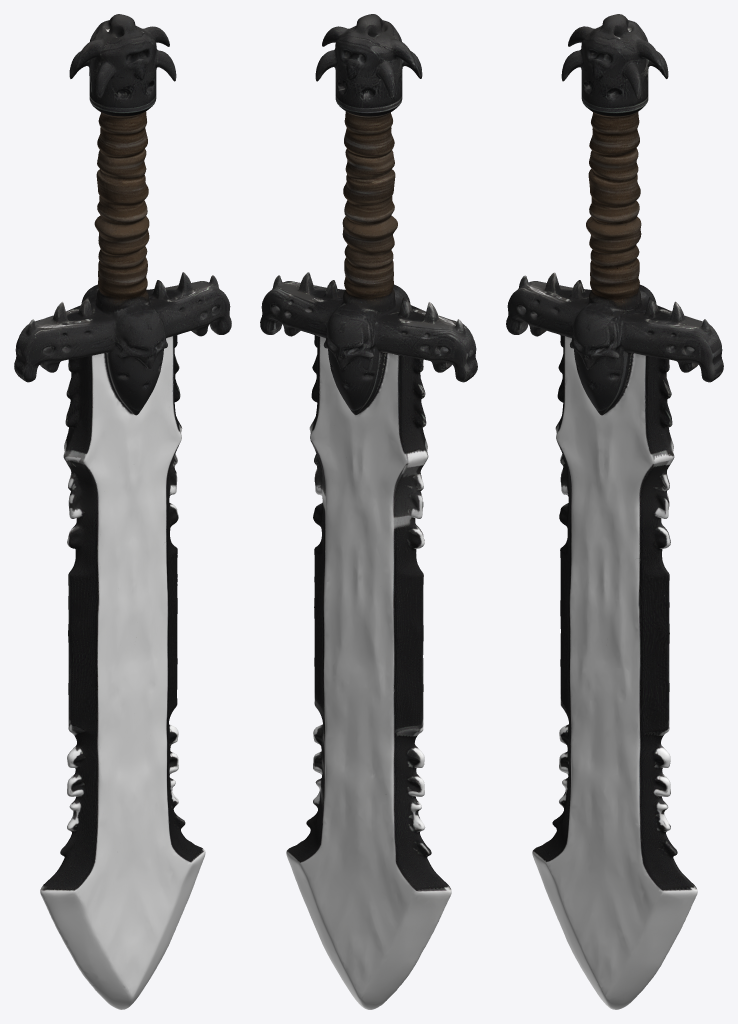
The model's file is Meshy_Model_Import0003.fbx.
3 renders of one model, left to right at view 1: azimuth 30°, elevation 25°; view 2: azimuth 150°, elevation 25°; view 3: azimuth 330°, elevation 25°, orthographic.
Parts seen in each view (by area): view 1: Mesh_0; view 2: Mesh_0; view 3: Mesh_0.
Part boxes in pixels (x1,y1,x2,y2): Mesh_0: [14, 14, 231, 1009]; Mesh_0: [260, 14, 477, 1009]; Mesh_0: [506, 14, 723, 1009].
Size of the model in its own units: 41.88 by 190 by 20.31.
Materials: 1 (1 with a texture image).
